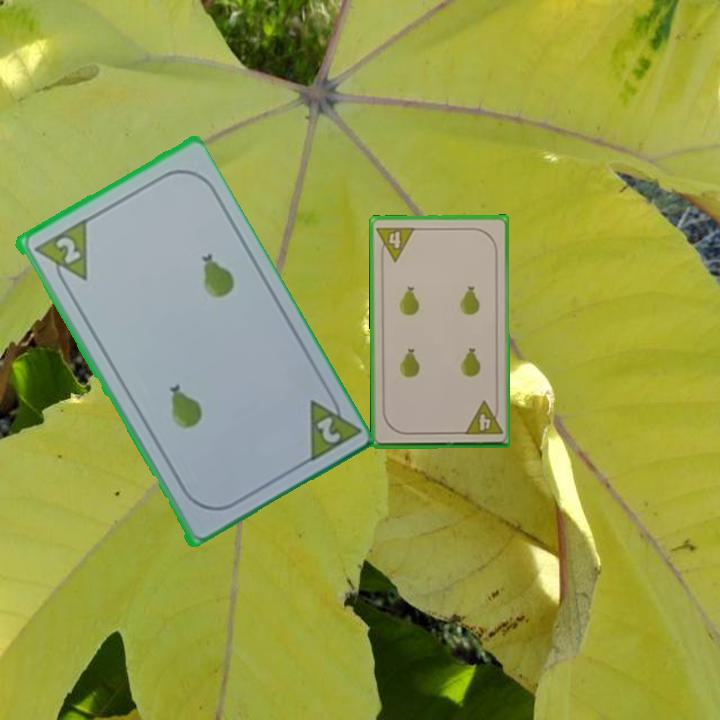2p: (51, 232, 83, 267), (312, 413, 343, 446)
4p: (373, 223, 418, 264), (461, 398, 505, 438)
